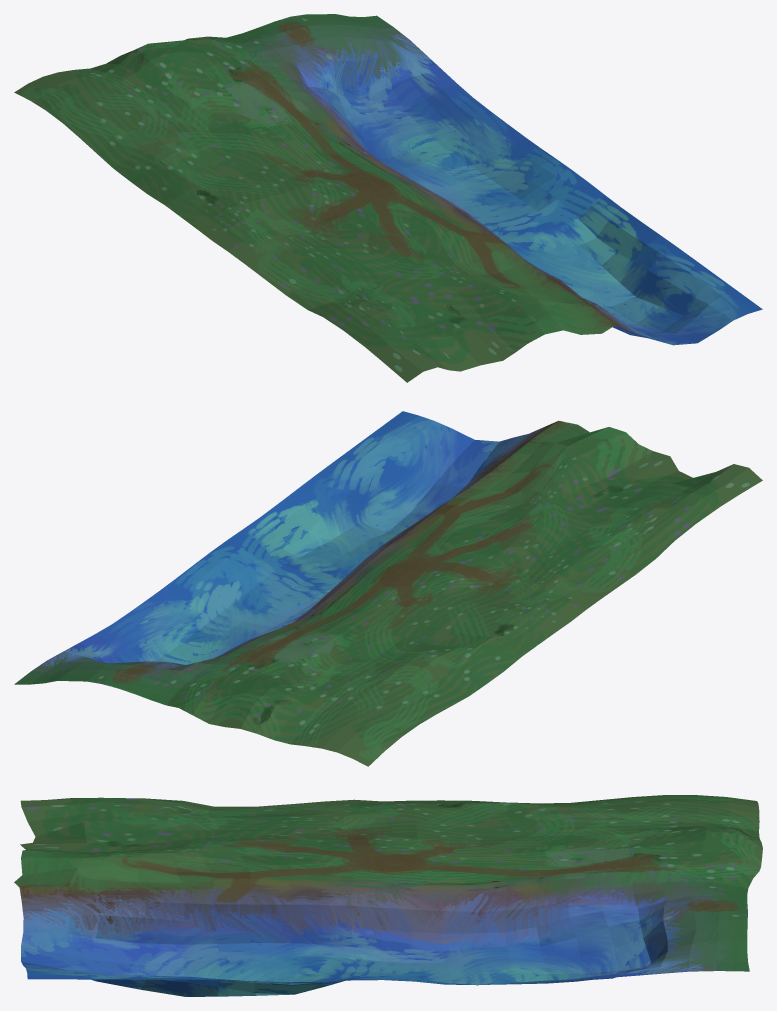
File: try.glb
3 views of the same model, one above another, from view 1: azimuth 30°, elevation 25°; view 2: azimuth 150°, elevation 25°; view 3: azimuth 270°, elevation 25° (orthographic). The views are drawn at different scales.
Visible parts, largest first — view 1: Plane; view 2: Plane; view 3: Plane.
Part boxes in pixels (left/top/right/bottom): Plane: left=14, top=14, right=762, bottom=382; Plane: left=14, top=411, right=762, bottom=766; Plane: left=14, top=795, right=762, bottom=996.
Bounding box in the file's own units: 28.58 × 6.66 × 54.87.
1 material, 1 textured.
